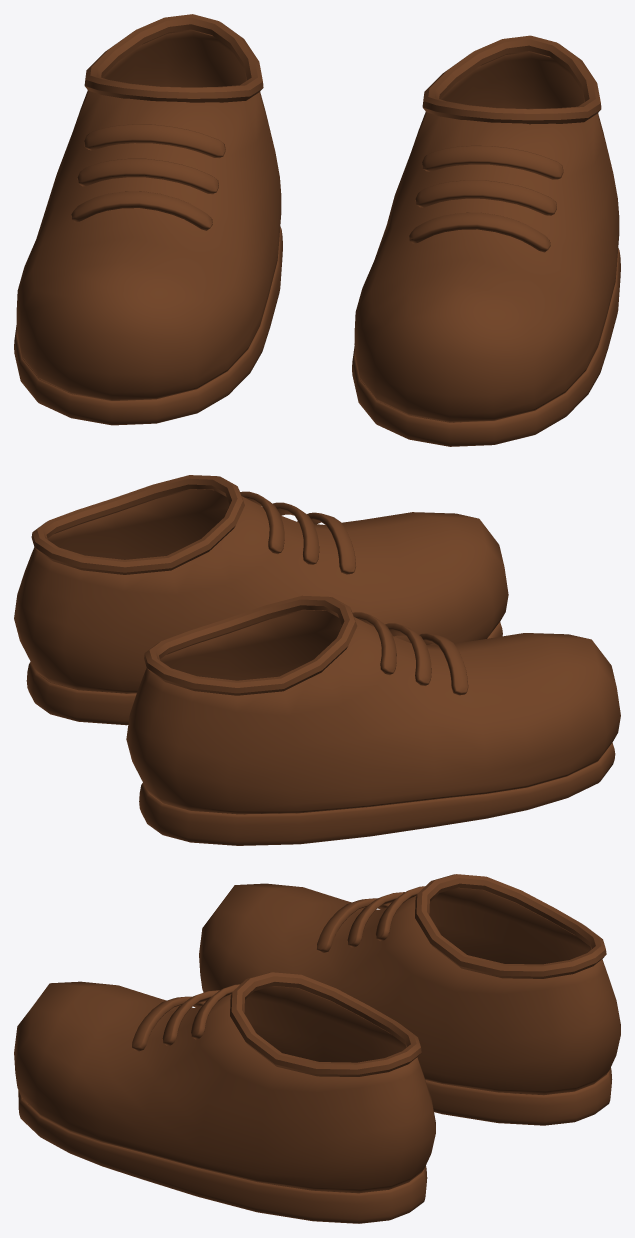
The model's file is zapatos corregidos.fbx.
The picture shows the model from 3 angles, top to bottom: view 1: azimuth 30°, elevation 25°; view 2: azimuth 150°, elevation 25°; view 3: azimuth 270°, elevation 25°; orthographic projection. The views are drawn at different scales.
Visible parts, largest first — view 1: Shoes_01.001; view 2: Shoes_01.001; view 3: Shoes_01.001.
Part boxes in pixels (box(x1,y1,x2,y2)): Shoes_01.001: box(14, 14, 620, 446); Shoes_01.001: box(14, 475, 620, 845); Shoes_01.001: box(14, 874, 620, 1223).
Size of the model in its own units: 68.84 by 22.81 by 69.42.
